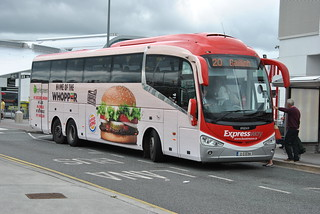bus: (27, 33, 274, 164)
